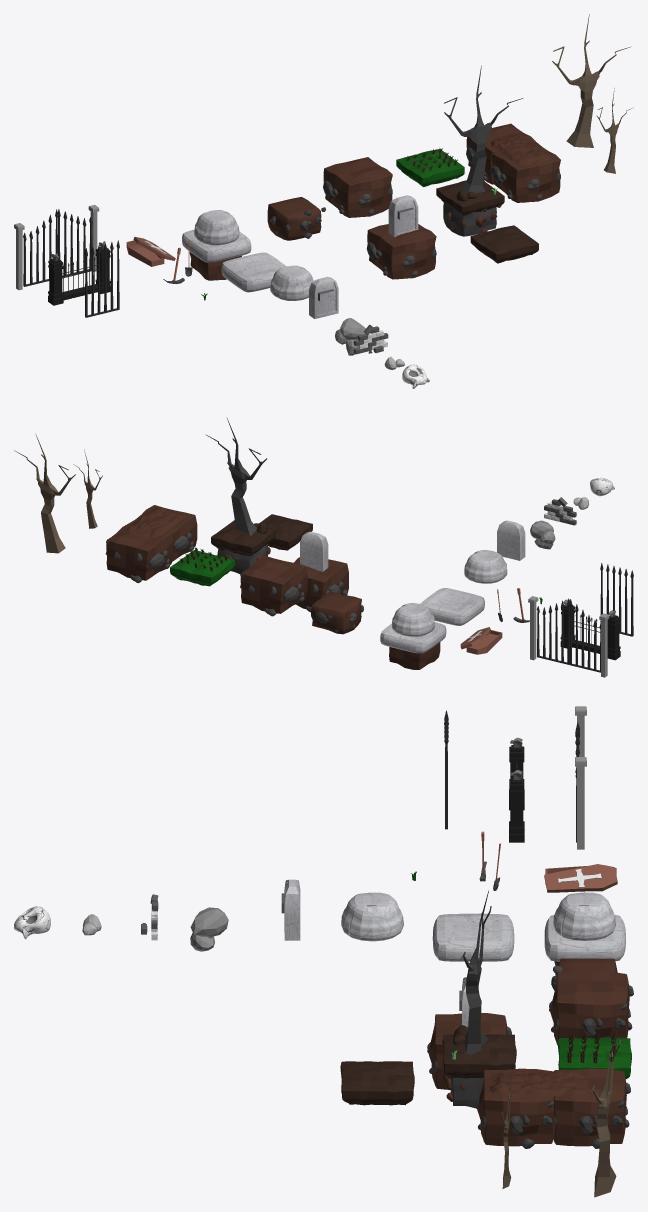
File: graveyard.fbx
3 views of the same model, one above another, from view 1: azimuth 30°, elevation 25°; view 2: azimuth 150°, elevation 25°; view 3: azimuth 270°, elevation 25° (orthographic). The views are drawn at different scales.
Visible parts, largest first — view 1: Plane.001, groundDirt2.001, TombStoneGround, brown2.016, block.020, Gate.001, SmallGroundBlock, StatueFence.001, deadGrassGround, StoneBlock, dirtGround, largeTree (+7 smaller); view 2: Plane.001, groundDirt2.001, block.020, brown2.016, Gate.001, TombStoneGround, SmallGroundBlock, StoneBlock, deadGrassGround, StatueFence.001, largeTree, StoneAtTop (+7 smaller); view 3: Plane.001, groundDirt2.001, brown2.016, block.020, StoneBlock, dirtGround, StoneAtTop, deadGrassGround, TombStoneGround, Coffine2, largeTree, StatueFence.001 (+5 smaller).
Boxes of the visible parts, x1=… form: Plane.001: x1=466, y1=123, x2=560, y2=202; groundDirt2.001: x1=436, y1=65, x2=523, y2=236; TombStoneGround: x1=367, y1=195, x2=436, y2=279; brown2.016: x1=323, y1=157, x2=392, y2=217; block.020: x1=182, y1=210, x2=251, y2=280; Gate.001: x1=14, y1=204, x2=99, y2=290; SmallGroundBlock: x1=267, y1=197, x2=325, y2=240; StatueFence.001: x1=48, y1=241, x2=110, y2=305; deadGrassGround: x1=396, y1=148, x2=464, y2=186; StoneBlock: x1=221, y1=252, x2=286, y2=292; dirtGround: x1=470, y1=225, x2=538, y2=263; largeTree: x1=552, y1=14, x2=631, y2=147; Plane.001: x1=105, y1=505, x2=197, y2=583; groundDirt2.001: x1=205, y1=417, x2=275, y2=574; block.020: x1=380, y1=603, x2=446, y2=669; brown2.016: x1=240, y1=556, x2=307, y2=616; Gate.001: x1=528, y1=596, x2=609, y2=677; TombStoneGround: x1=294, y1=531, x2=348, y2=612; SmallGroundBlock: x1=311, y1=586, x2=363, y2=634; StoneBlock: x1=420, y1=588, x2=484, y2=625; deadGrassGround: x1=170, y1=547, x2=235, y2=586; StatueFence.001: x1=560, y1=599, x2=620, y2=660; largeTree: x1=14, y1=433, x2=75, y2=553; StoneAtTop: x1=464, y1=550, x2=507, y2=583; Plane.001: x1=476, y1=1068, x2=630, y2=1148; groundDirt2.001: x1=442, y1=890, x2=516, y2=1108; brown2.016: x1=549, y1=971, x2=633, y2=1044; block.020: x1=544, y1=892, x2=625, y2=975; StoneBlock: x1=432, y1=913, x2=514, y2=961; dirtGround: x1=340, y1=1061, x2=414, y2=1105; StoneAtTop: x1=341, y1=892, x2=403, y2=941; deadGrassGround: x1=557, y1=1033, x2=631, y2=1079; TombStoneGround: x1=427, y1=977, x2=511, y2=1089; Coffine2: x1=544, y1=864, x2=617, y2=892; largeTree: x1=591, y1=1024, x2=621, y2=1197; StatueFence.001: x1=509, y1=737, x2=524, y2=842.
Size of the model in its own units: 36.68 by 10.16 by 22.8.
